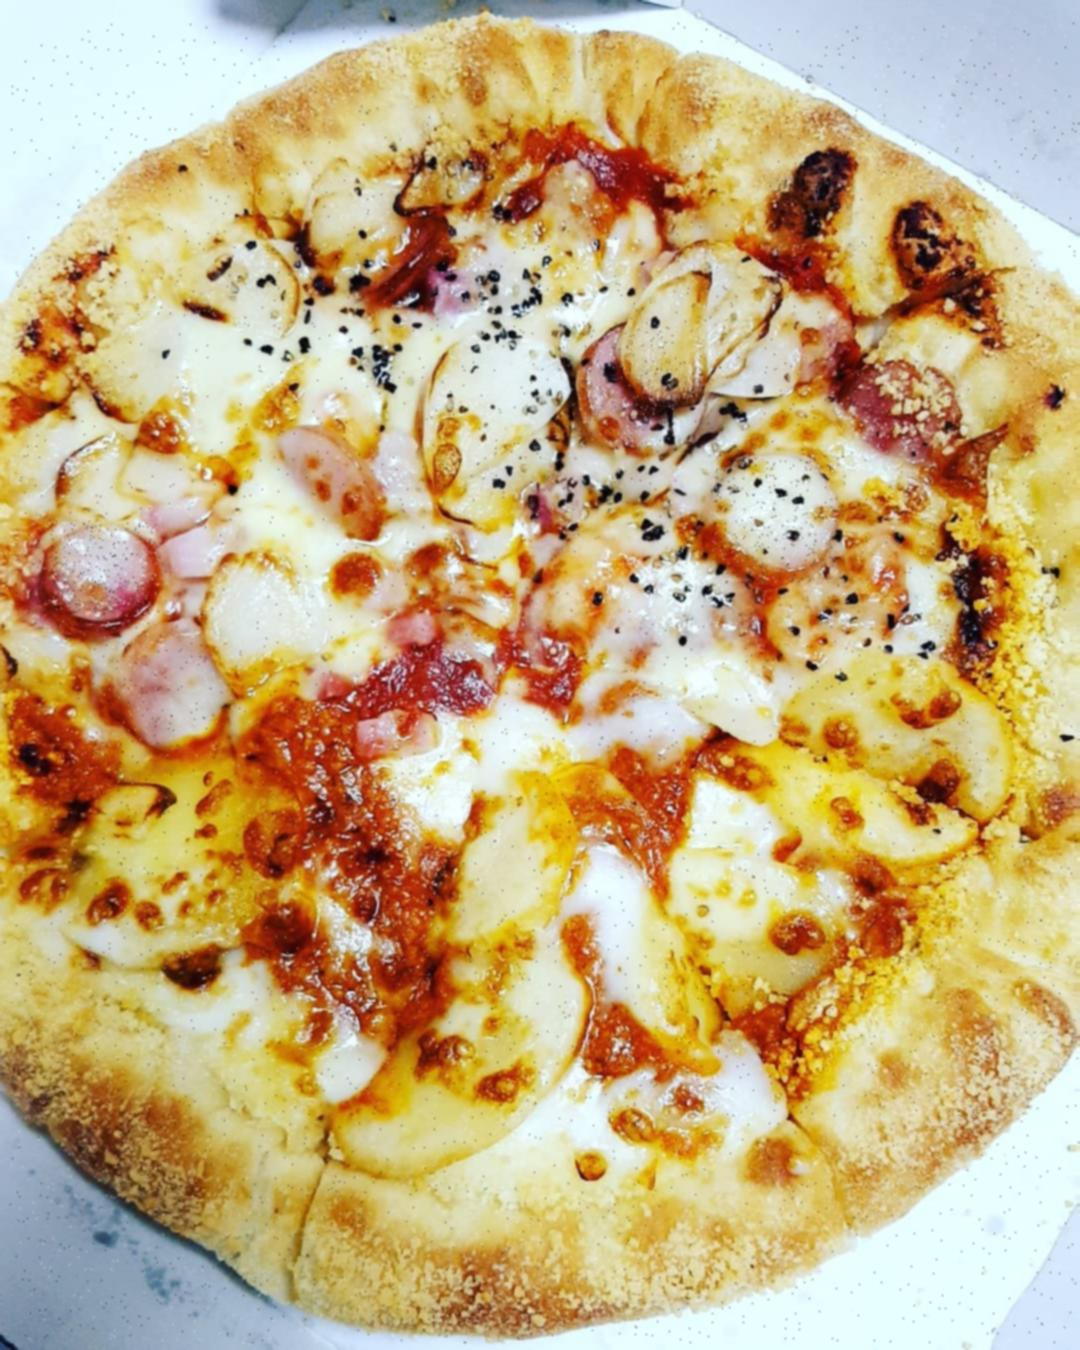Pepperoni: (101, 626, 236, 756), (713, 456, 845, 583), (576, 324, 678, 444), (51, 523, 156, 615)
Pizza: (11, 23, 1080, 1343)
